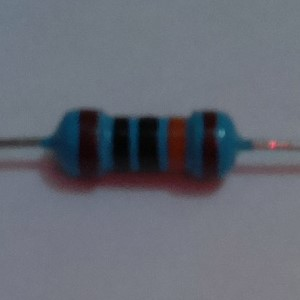black_band: (137, 114, 161, 174), (110, 115, 132, 174)
brown_band: (77, 107, 102, 181), (199, 109, 220, 182)
orange_band: (165, 116, 189, 175)
